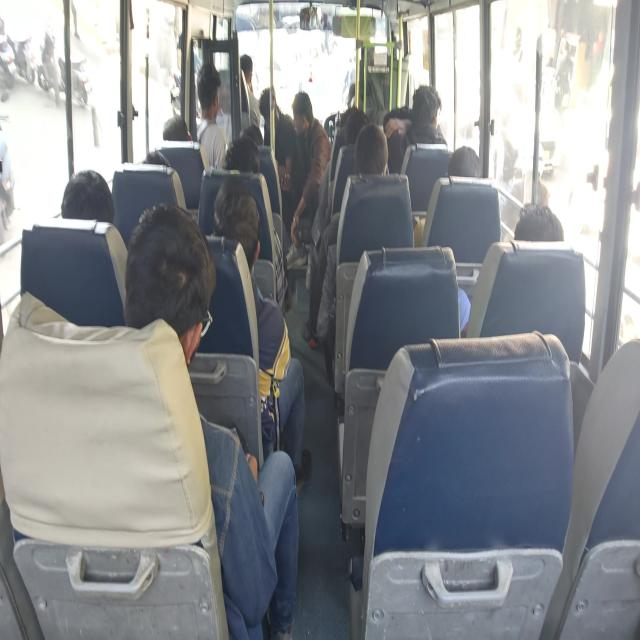person: (131, 224, 197, 347), (54, 158, 111, 232), (512, 193, 568, 267), (64, 147, 109, 230), (209, 188, 257, 264), (154, 105, 206, 164), (349, 136, 391, 188), (408, 82, 442, 142), (446, 137, 486, 185), (133, 149, 177, 188), (288, 94, 320, 146), (219, 125, 256, 168), (190, 75, 218, 123), (341, 108, 368, 152), (230, 53, 253, 100), (258, 78, 274, 129)
